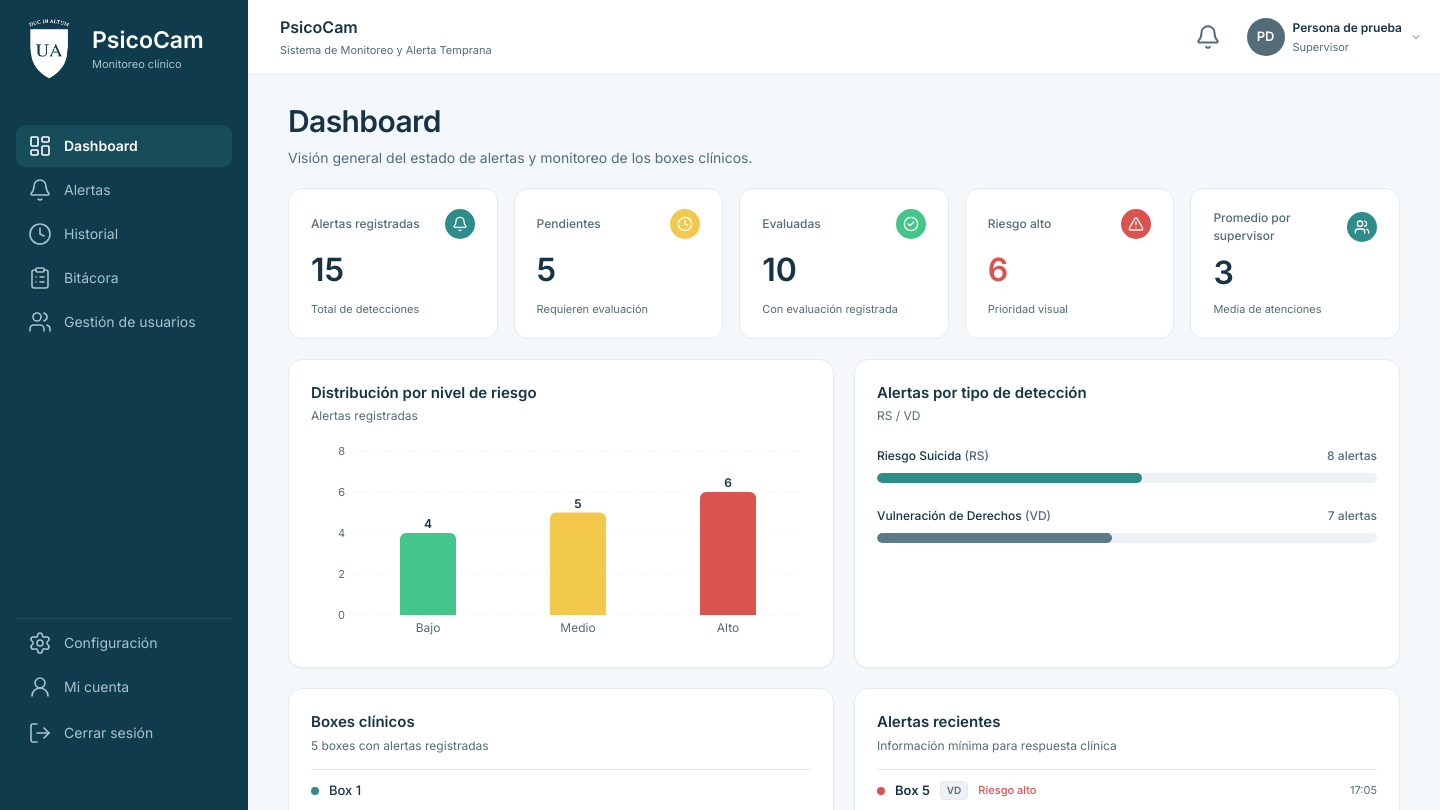
Integración de SCRUM-27 › conserva la sesión y permite reintentar cuando falla el cierre remoto
Click the button "Cerrar sesión" at point(124, 733), box [16,712,232,754]
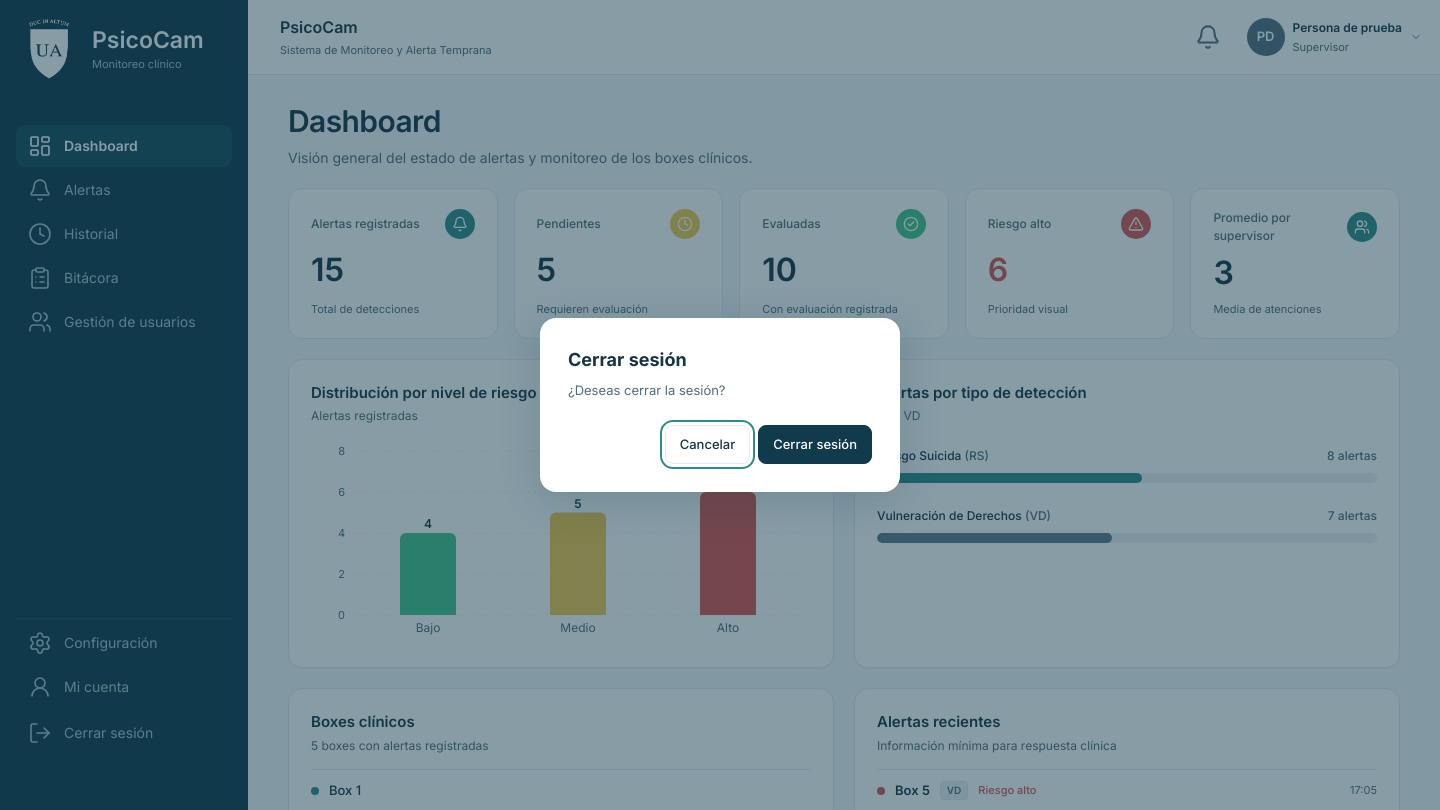
Click the button "Cerrar sesión" at point(815, 444), box [758,424,872,464]
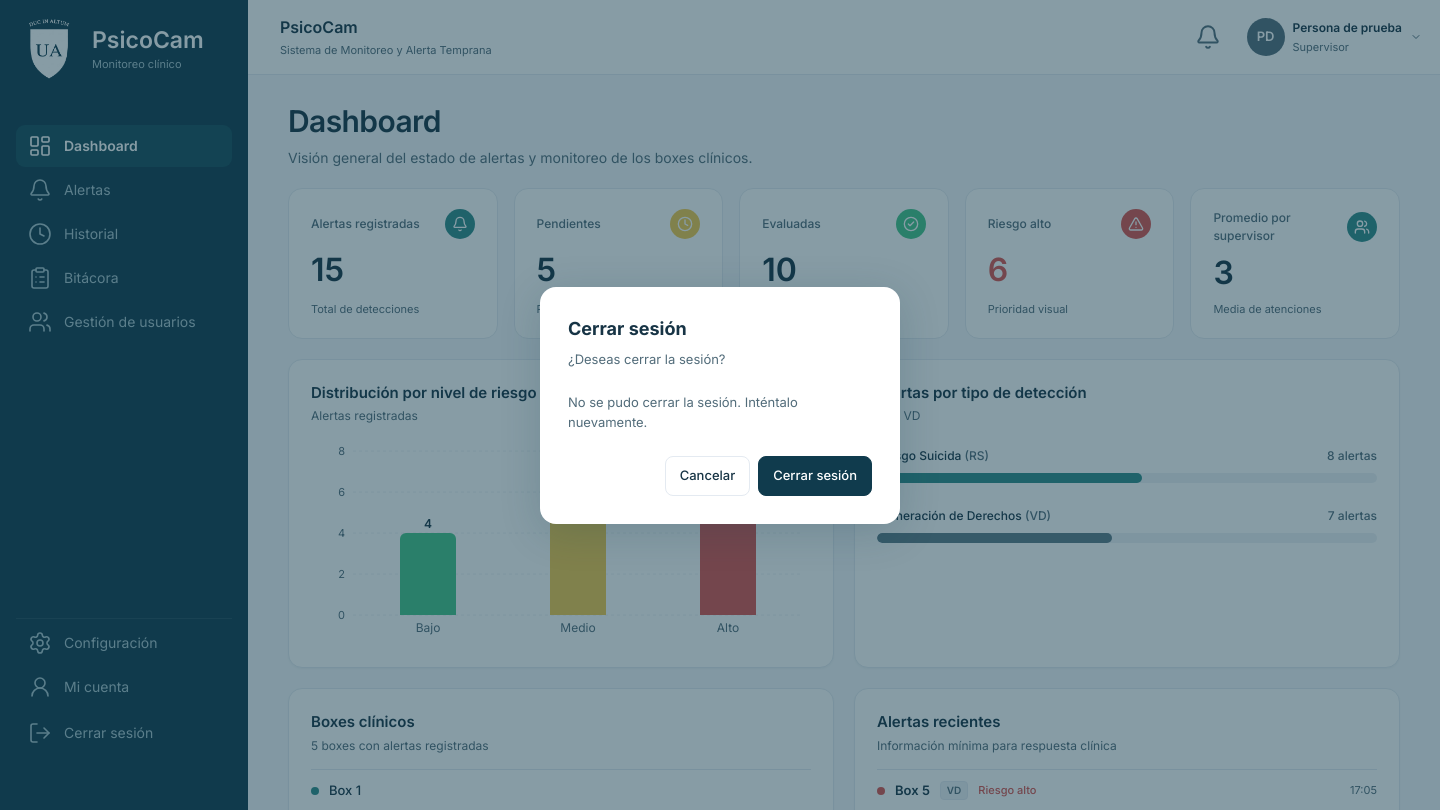
Expected: the header is shown, [248,0,1439,75]
Expected: the message "No se pudo cerrar la sesión. Inténtalo nuevamente." is shown, [568,394,798,430]
